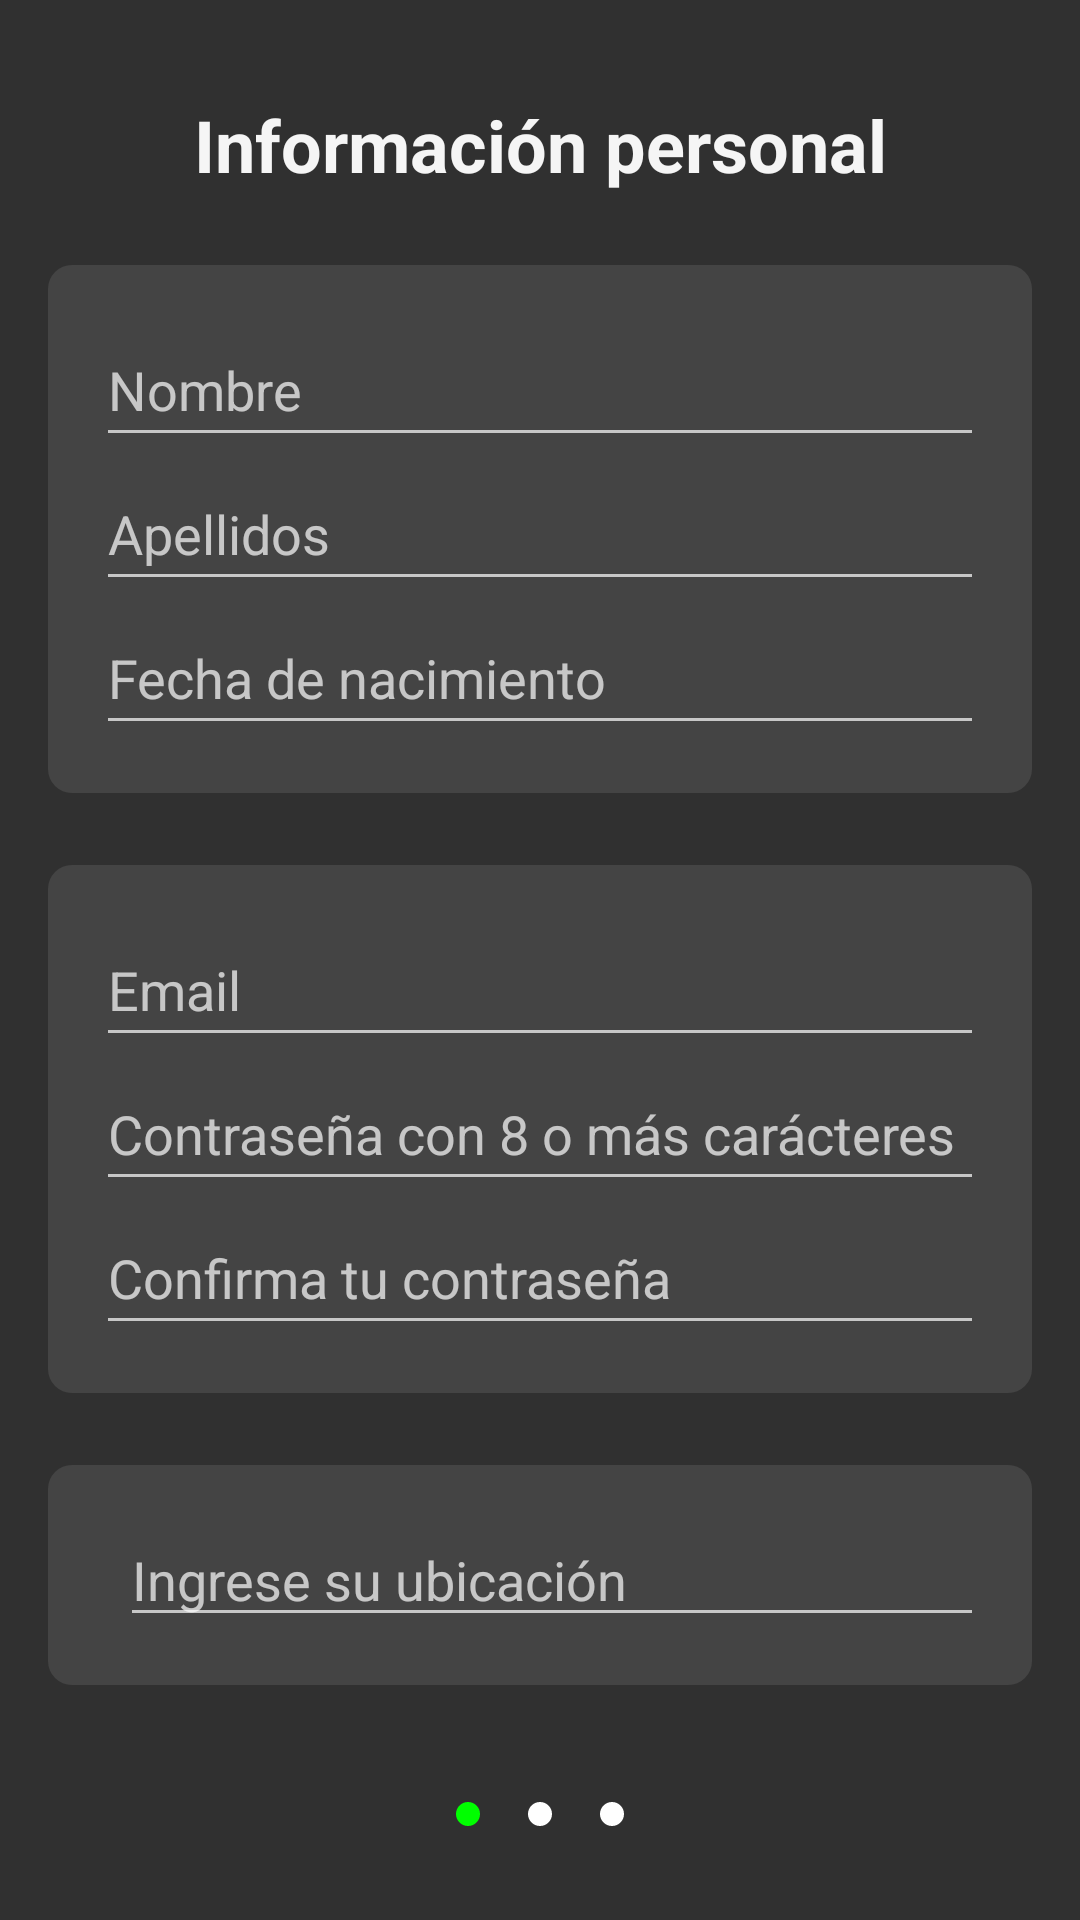

Icons on this 1080 × 1920 Android screen, each with its box as (x1, y1, x2, y2):
dot: (456, 1802, 480, 1826), (528, 1802, 552, 1826), (600, 1802, 624, 1826)
